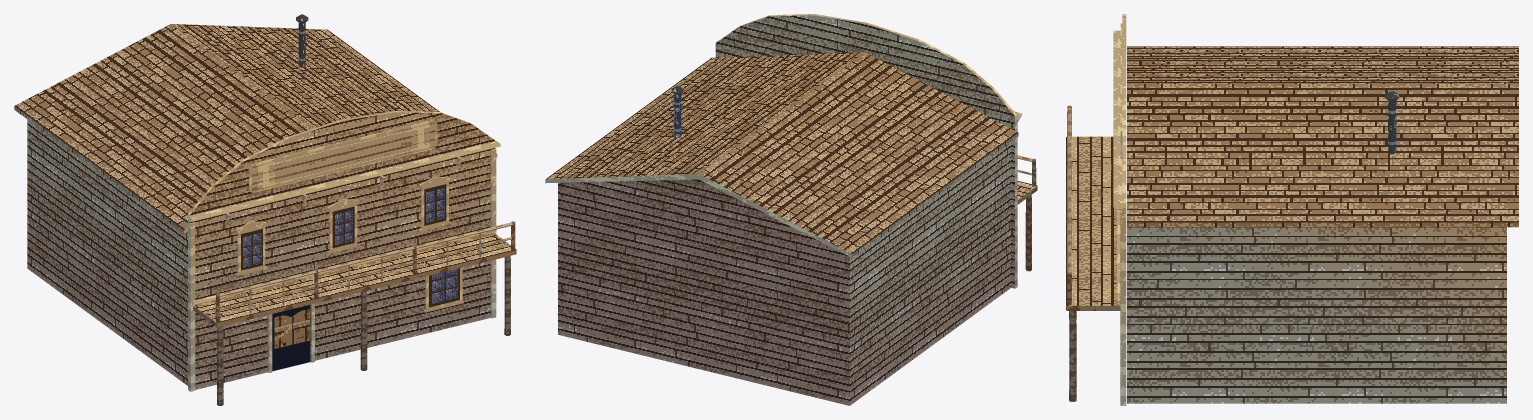
File: wtown.saloon__arched.glb
The picture shows the model from 3 angles, left to right: view 1: azimuth 30°, elevation 25°; view 2: azimuth 150°, elevation 25°; view 3: azimuth 270°, elevation 25°; orthographic projection. The views are drawn at different scales.
Parts seen in each view (by area): view 1: kit_roof, kit_front, kit_body, kit_balcony, kit_card_panes, kit_trim, kit_windows, kit_door, kit_stovepipe; view 2: kit_body, kit_roof, kit_front, kit_balcony, kit_stovepipe; view 3: kit_roof, kit_body, kit_balcony, kit_trim, kit_front, kit_stovepipe.
Part boxes in pixels (box(x1,y1,x2,y2)): kit_roof: box(14, 24, 497, 233); kit_front: box(188, 111, 495, 390); kit_body: box(27, 119, 187, 385); kit_balcony: box(193, 221, 516, 405); kit_card_panes: box(241, 122, 459, 371); kit_trim: box(188, 119, 500, 391); kit_windows: box(236, 176, 463, 312); kit_door: box(274, 309, 309, 348); kit_stovepipe: box(296, 14, 308, 67); kit_body: box(558, 142, 1010, 405); kit_roof: box(545, 52, 1018, 257); kit_front: box(715, 14, 1016, 288); kit_balcony: box(1017, 155, 1037, 271); kit_stovepipe: box(671, 85, 683, 138); kit_roof: box(1127, 46, 1518, 227); kit_body: box(1127, 227, 1506, 403); kit_balcony: box(1066, 105, 1120, 401); kit_trim: box(1113, 23, 1122, 405); kit_front: box(1122, 14, 1126, 405); kit_stovepipe: box(1385, 90, 1399, 153).
Size of the model in its own units: 12.1 by 8.7 by 13.12.
12 materials, 12 textured.
